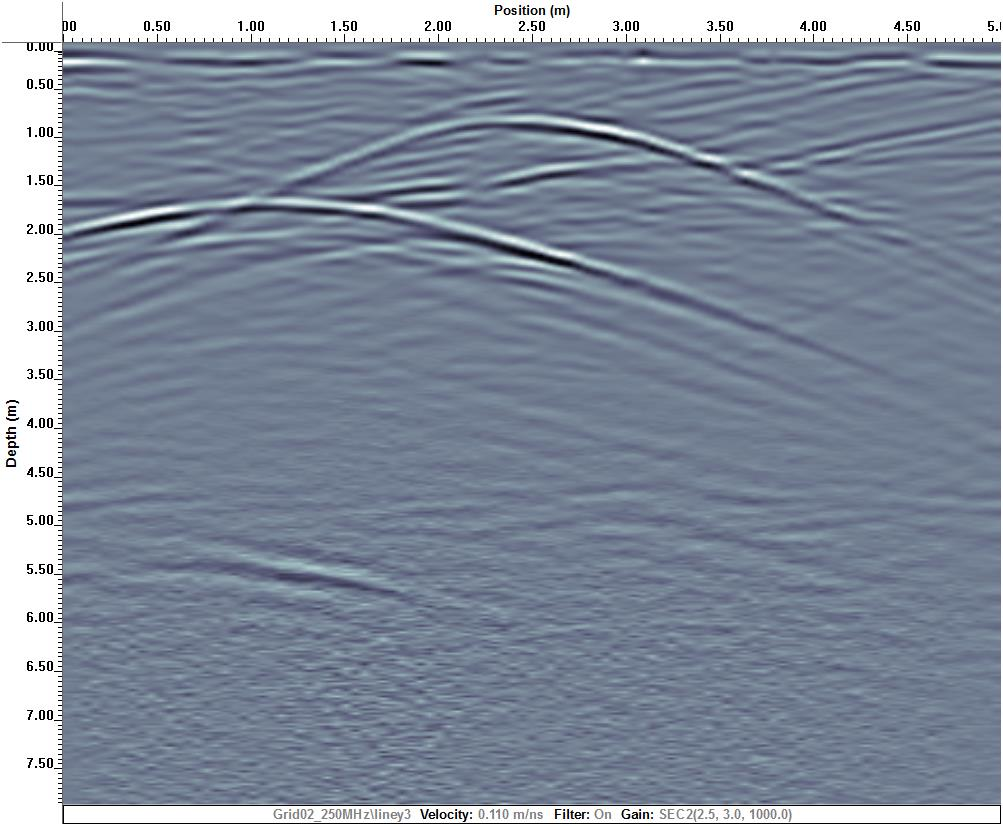hyperbola: (182, 104, 852, 229), (63, 191, 733, 316)
